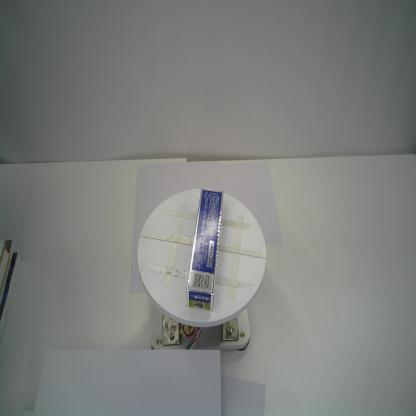Personal Hygiene: (186, 188, 224, 312)
